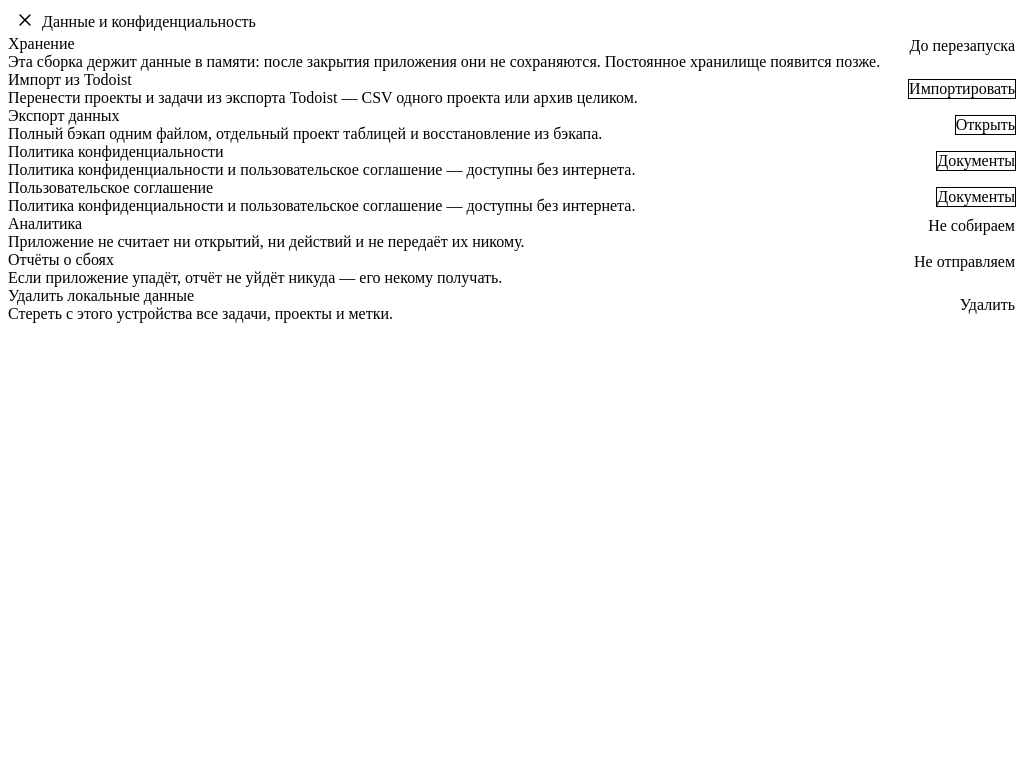
Test: DataPrivacy (M51) › удаление данных требует подтверждения и прямо говорит, что восстановить неоткуда
Click the button "Удалить": [987, 305] box [959,295,1016,315]
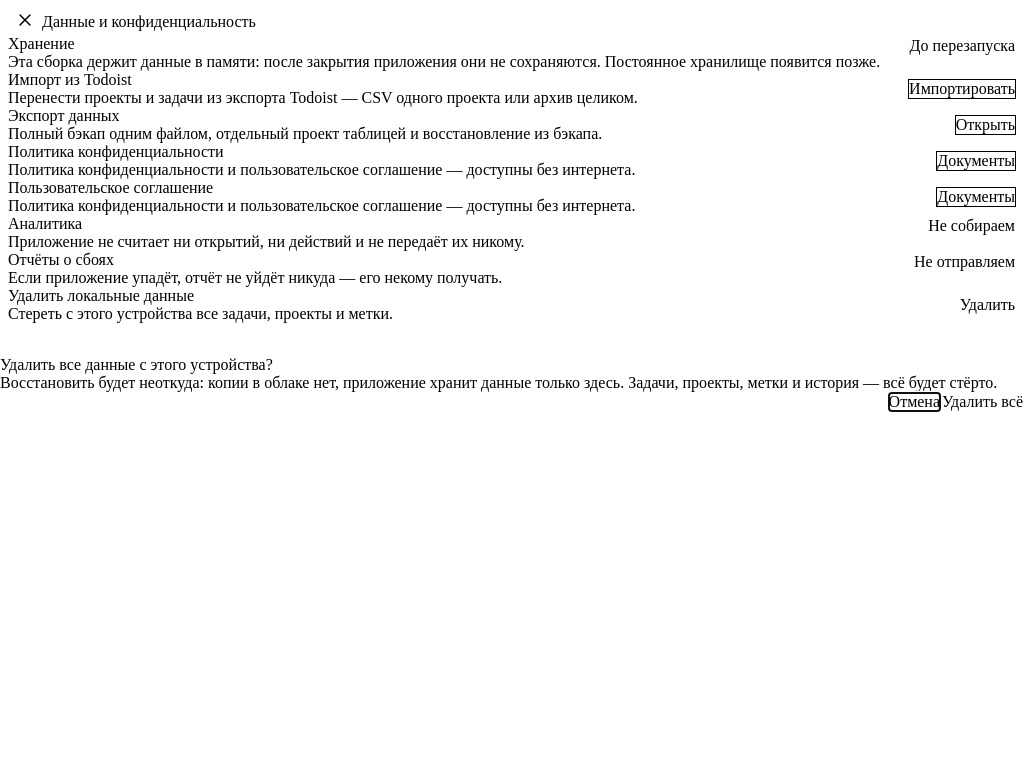
Expected: the dialog is shown, [0,356,1023,412]
Expected: the text "Восстановить будет неоткуда: копии в облаке нет, приложение хранит данные только здесь. Задачи, проекты, метки и история" is shown, [0,374,997,391]
